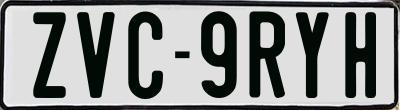9: (200, 10, 236, 103)
C: (127, 8, 162, 98)
H: (342, 10, 373, 100)
R: (247, 10, 285, 97)
V: (74, 10, 114, 96)
Y: (293, 12, 328, 104)
Z: (33, 12, 71, 104)
